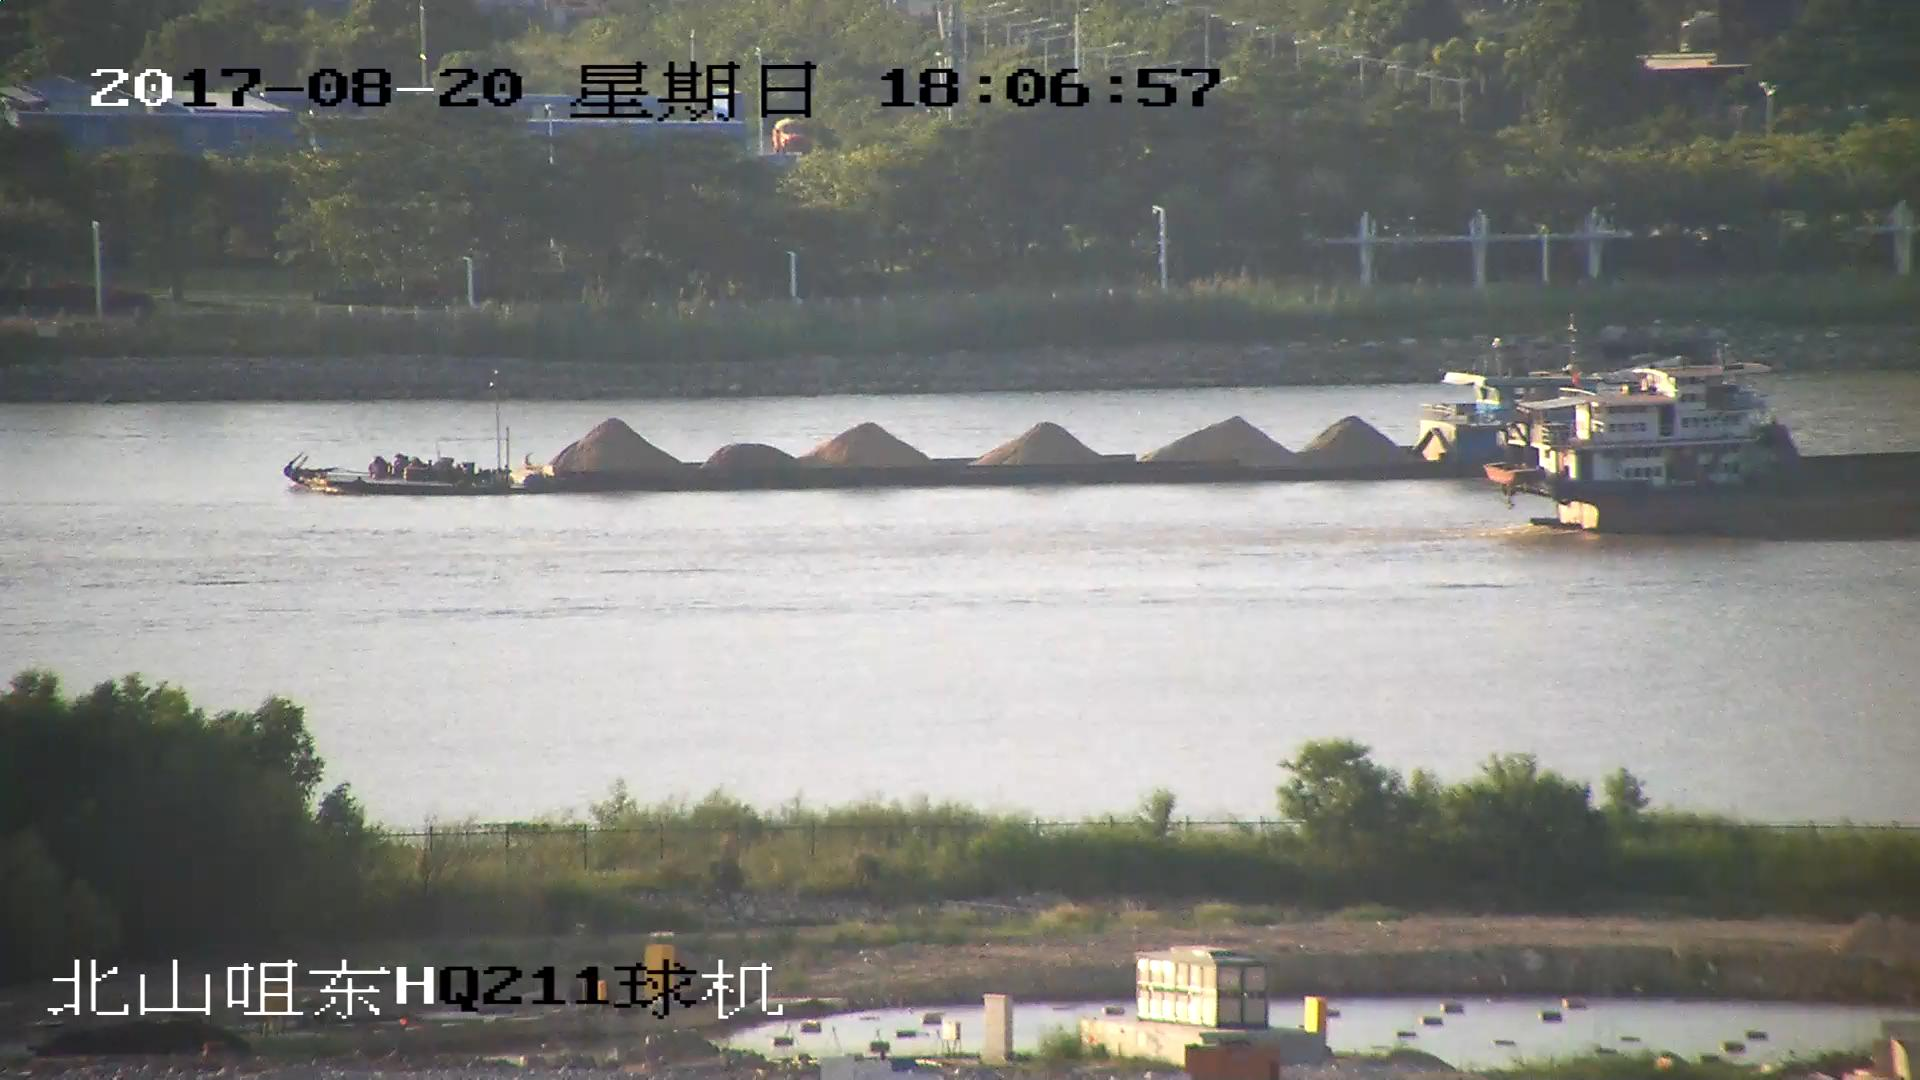bulk cargo carrier: (1482, 363, 1920, 541)
ore carrier: (274, 350, 1793, 497)
